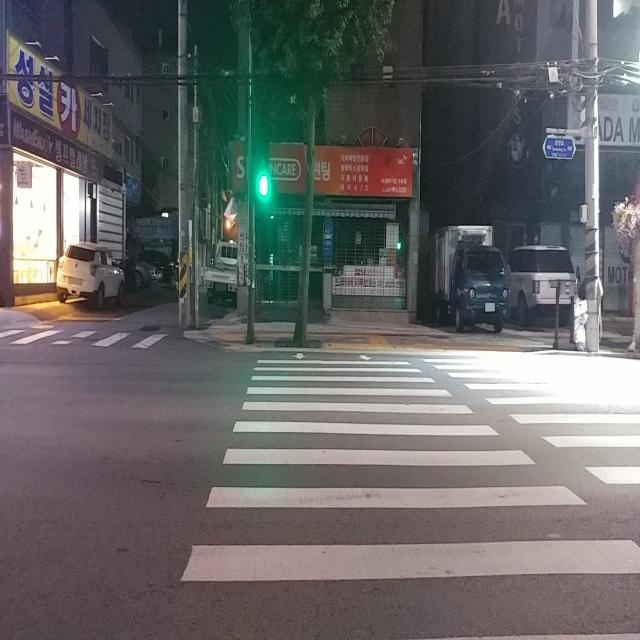초록불: (258, 152, 269, 204)
횡단보도: (177, 344, 640, 640)
